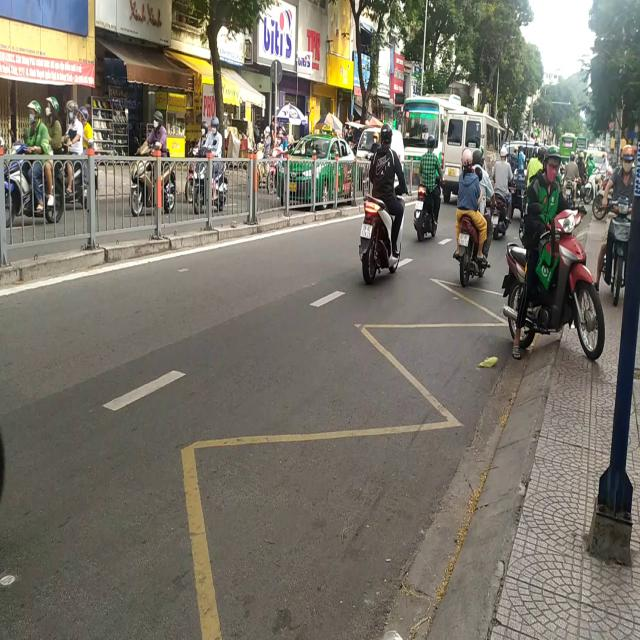bien_trang: (360, 218, 372, 242), (458, 230, 470, 248)
